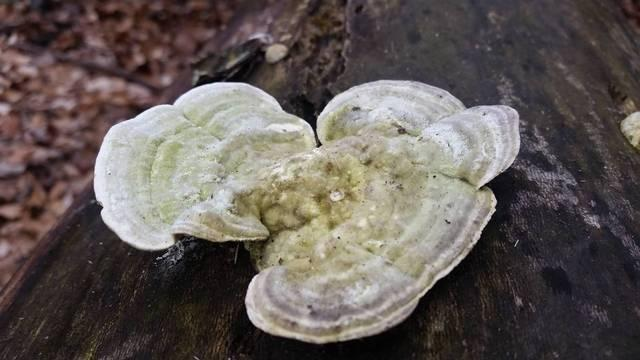Non-edible Mushroom: (254, 73, 525, 341), (92, 80, 316, 253)
